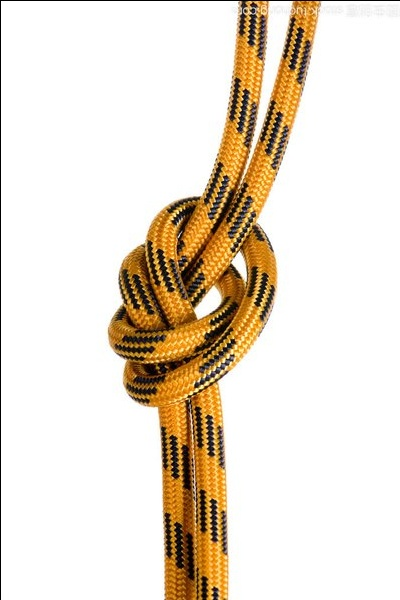9/可回收垃圾/绳子: (107, 2, 322, 600)
